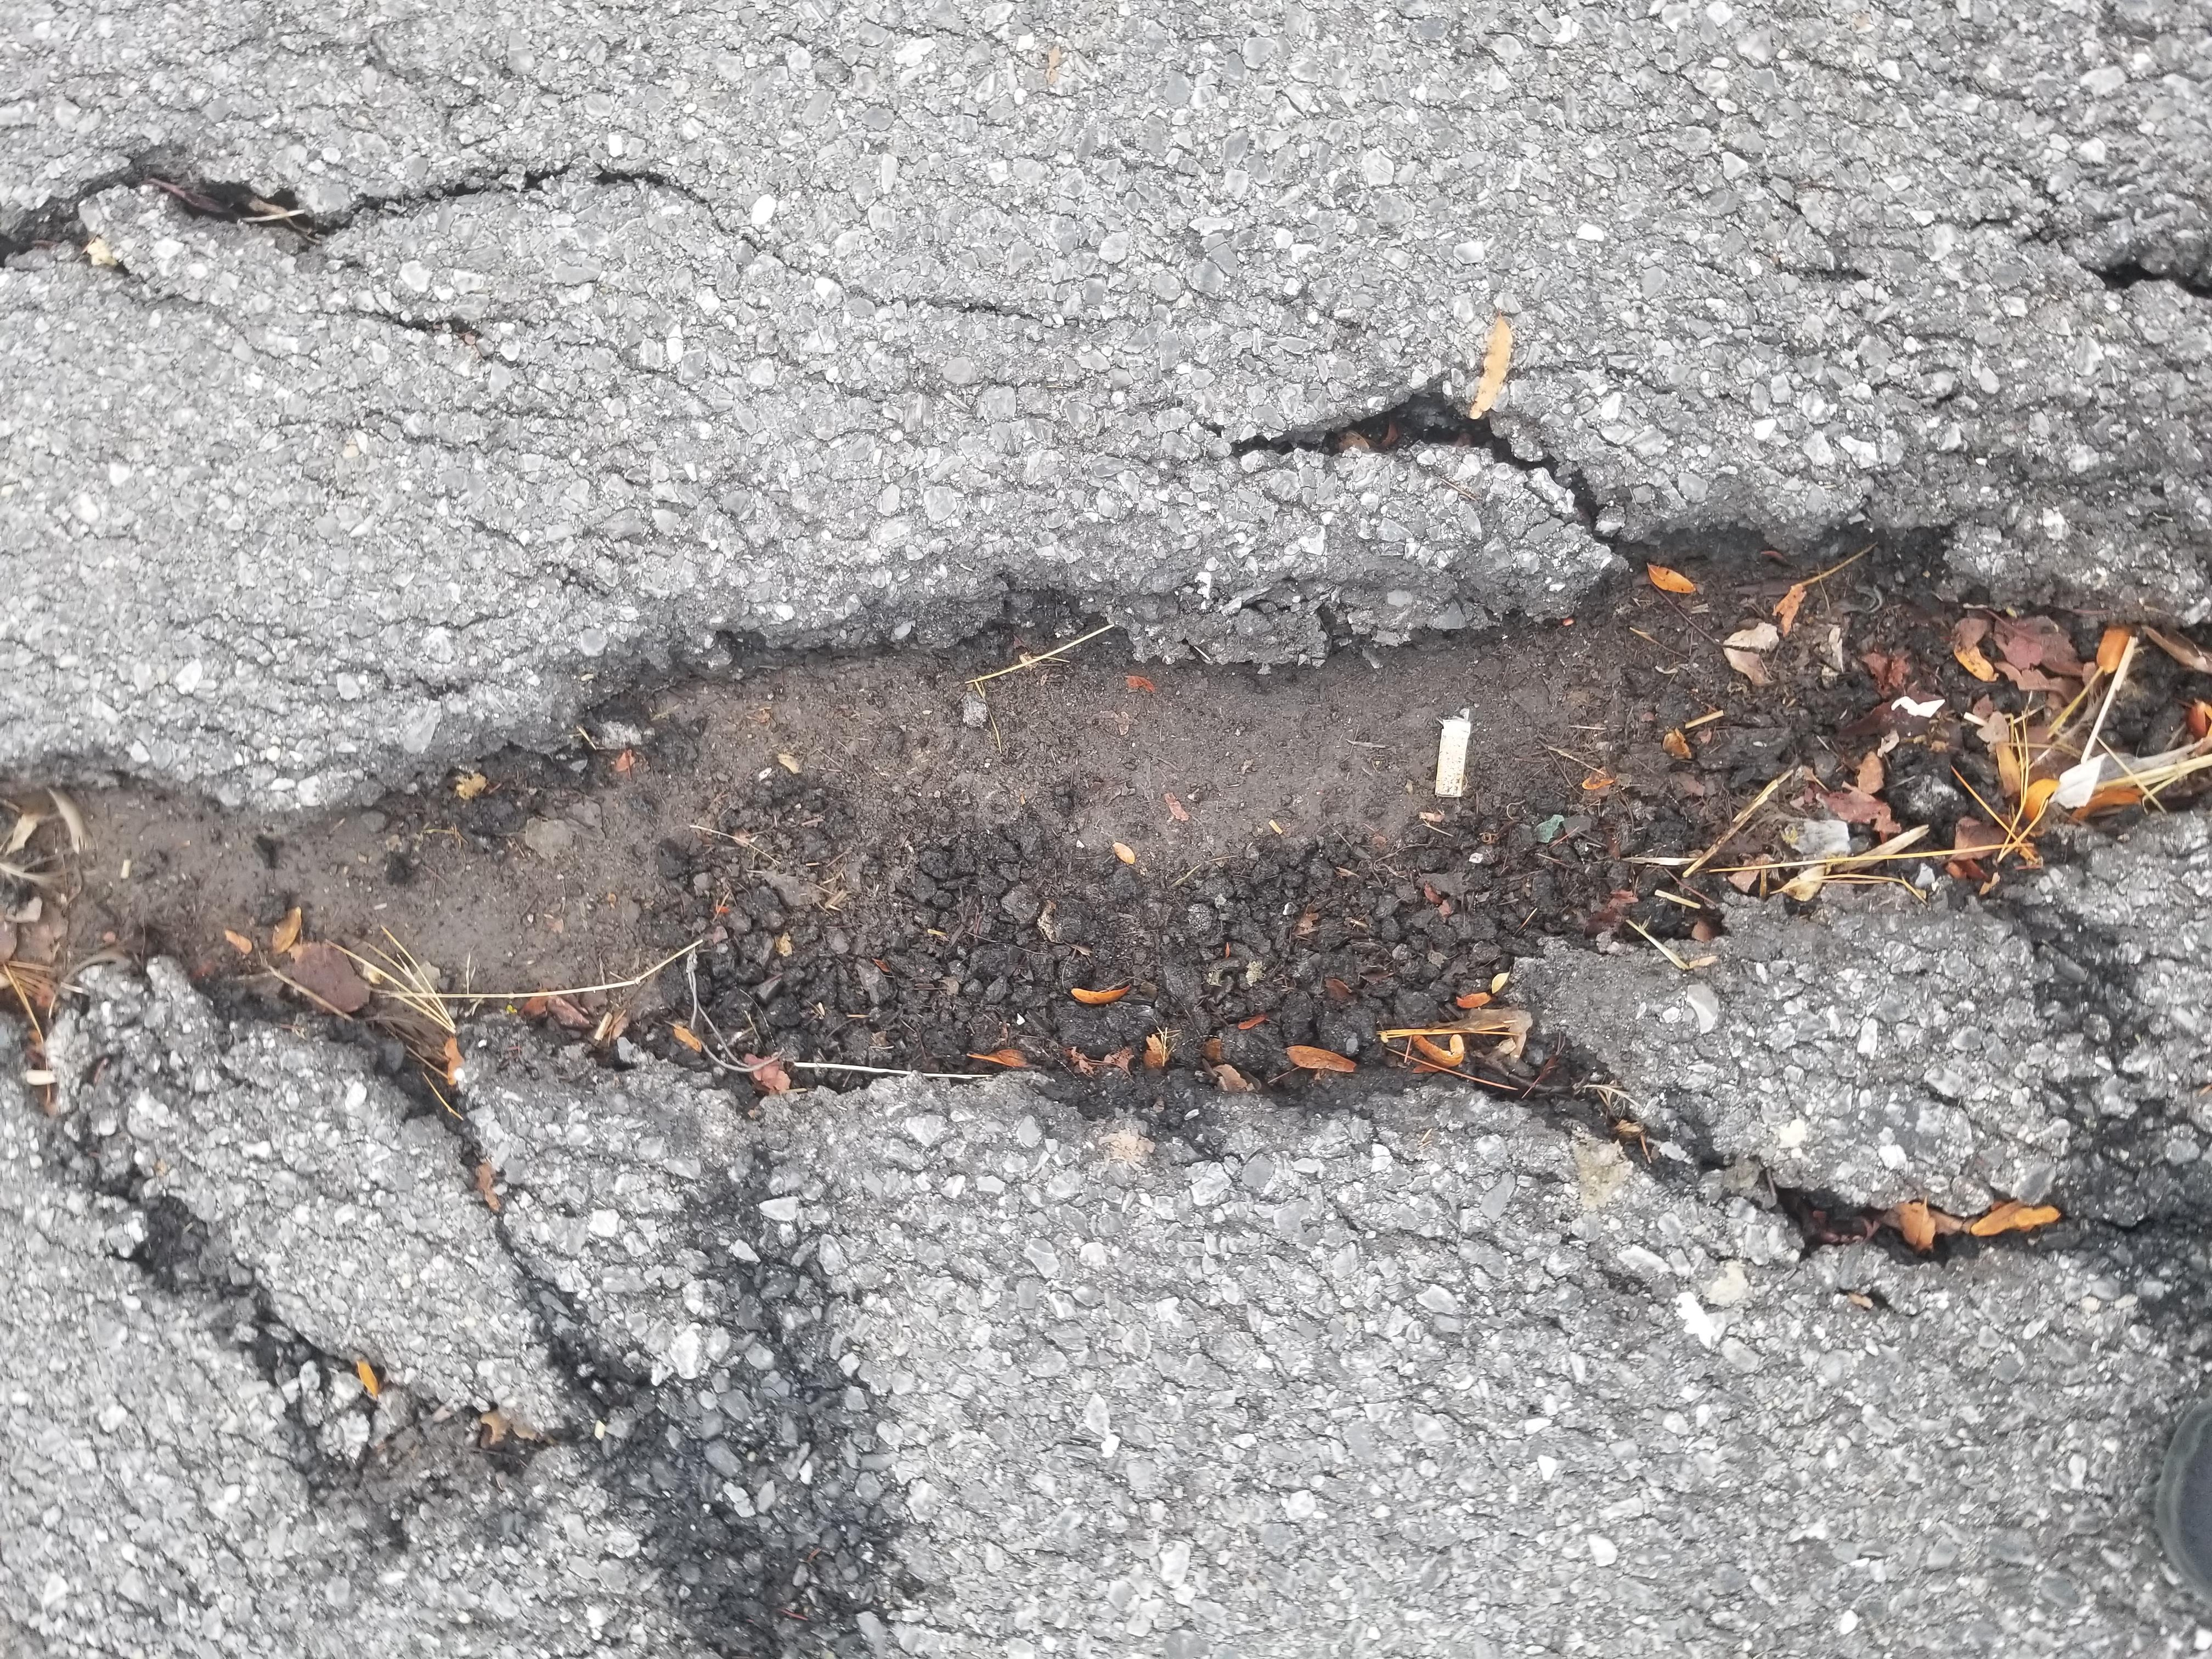pothole: (31, 22, 2150, 1645)
